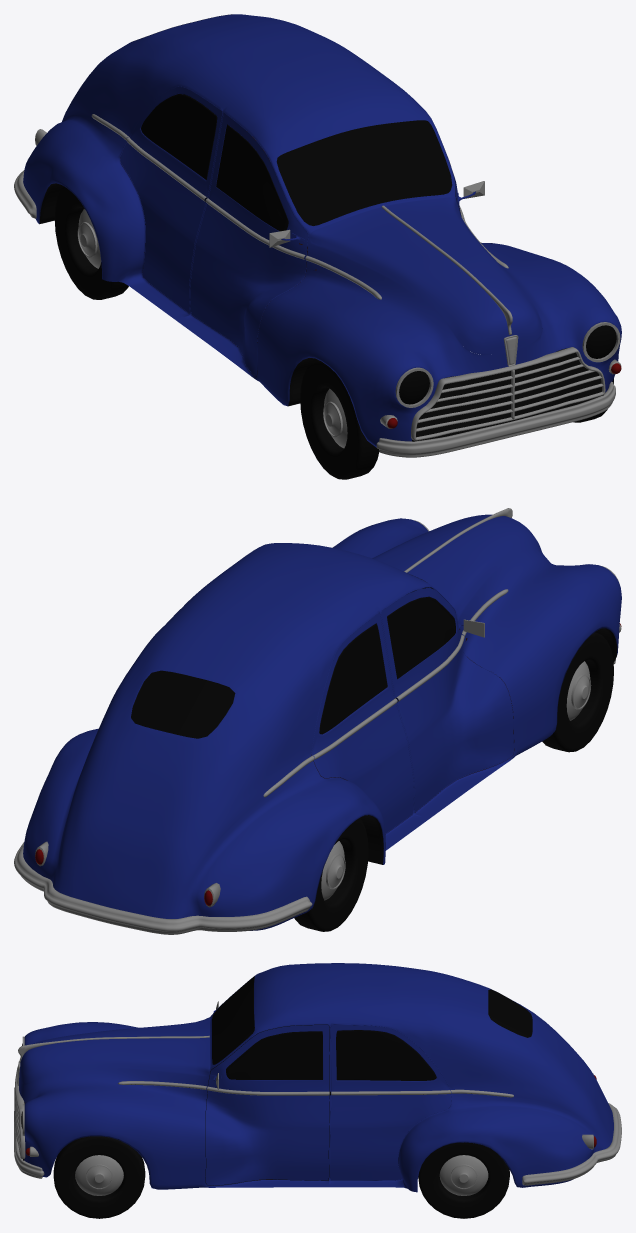
File: Pugeot_203_1948.fbx
3 views of the same model, one above another, from view 1: azimuth 30°, elevation 25°; view 2: azimuth 150°, elevation 25°; view 3: azimuth 270°, elevation 25° (orthographic). The views are drawn at different scales.
Parts seen in each view (by area): view 1: Carroceria, Porta4, Porta3, Roda1, Roda3; view 2: Carroceria, Porta4, Porta3, Roda1, Roda3; view 3: Carroceria, Porta1, Porta2, Roda2, Roda4.
Part boxes in pixels (x1,y1,x2,y2): Carroceria: (14, 14, 621, 457); Porta4: (190, 112, 308, 375); Porta3: (120, 86, 222, 313); Roda1: (300, 360, 379, 479); Roda3: (54, 186, 128, 299); Carroceria: (14, 508, 621, 934); Porta4: (381, 587, 514, 812); Porta3: (311, 612, 414, 833); Roda1: (542, 632, 613, 752); Roda3: (294, 818, 368, 931); Carroceria: (14, 963, 621, 1192); Porta1: (205, 1024, 329, 1185); Porta2: (330, 1024, 451, 1180); Roda2: (53, 1136, 145, 1218); Roda4: (418, 1142, 509, 1218).
Size of the model in its own units: 196 by 169 by 478.
